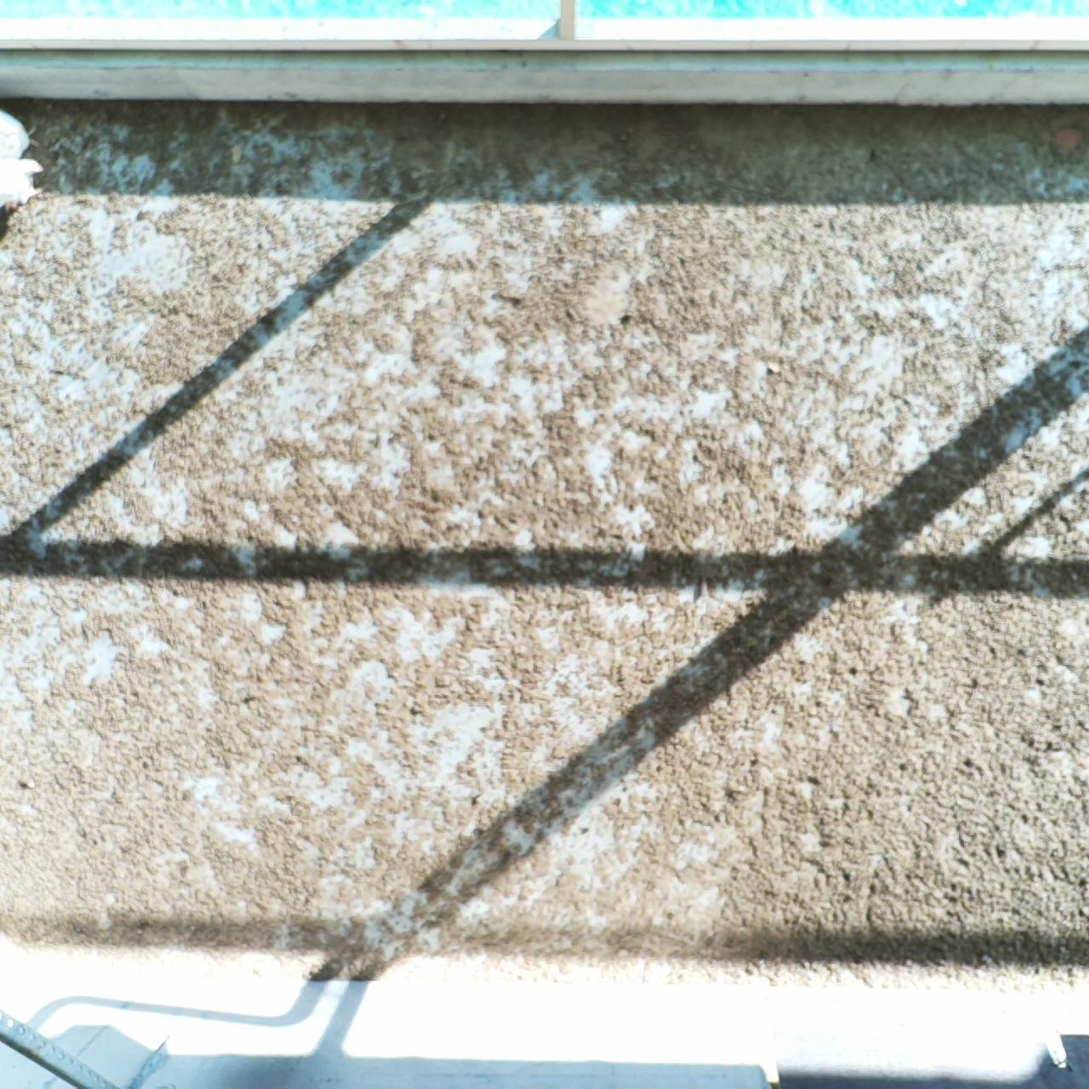chicken: (0, 155, 45, 215), (0, 103, 43, 161)
